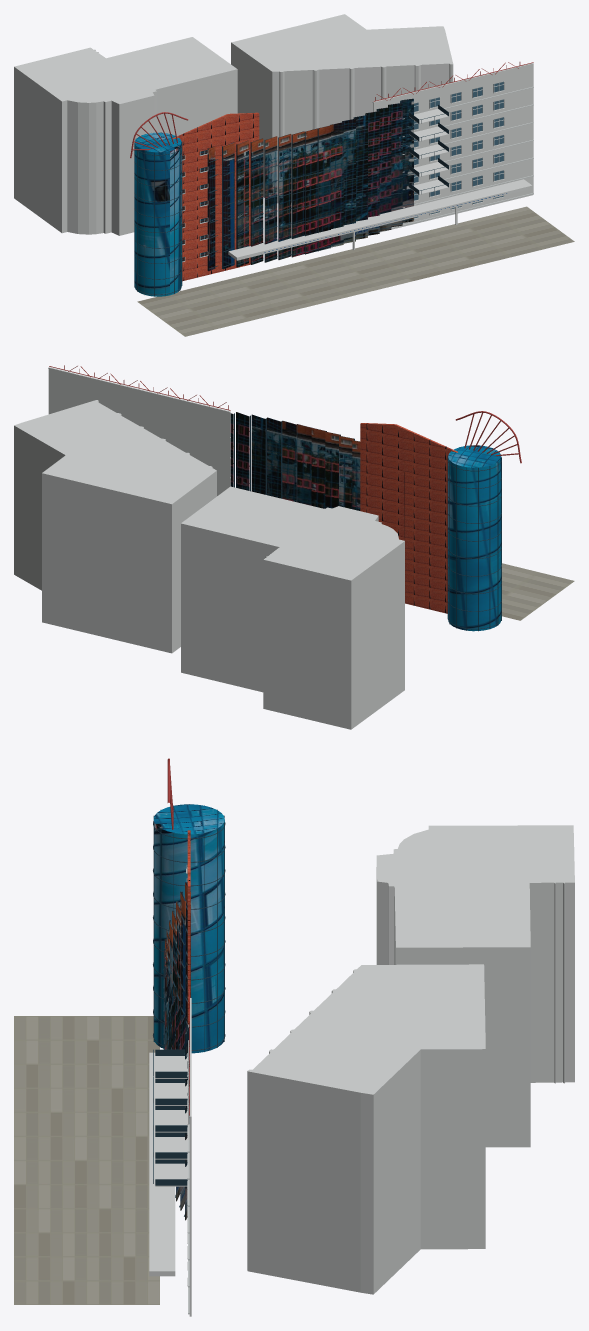
File: building-5.glb
3 renders of one model, top to bottom at view 1: azimuth 30°, elevation 25°; view 2: azimuth 150°, elevation 25°; view 3: azimuth 270°, elevation 25°, orthographic. The views are drawn at different scales.
Visible parts, largest first — view 1: building-5-mesh (×24); view 2: building-5-mesh (×15); view 3: building-5-mesh (×7).
Part boxes in pixels (box(x1,y1,x2,y2)): building-5-mesh (×24): box(14, 14, 574, 336); building-5-mesh (×15): box(14, 367, 574, 729); building-5-mesh (×7): box(14, 804, 574, 1316).
Bounding box in the file's own units: 88.68 × 37.21 × 69.17.
28 materials, 21 textured.
